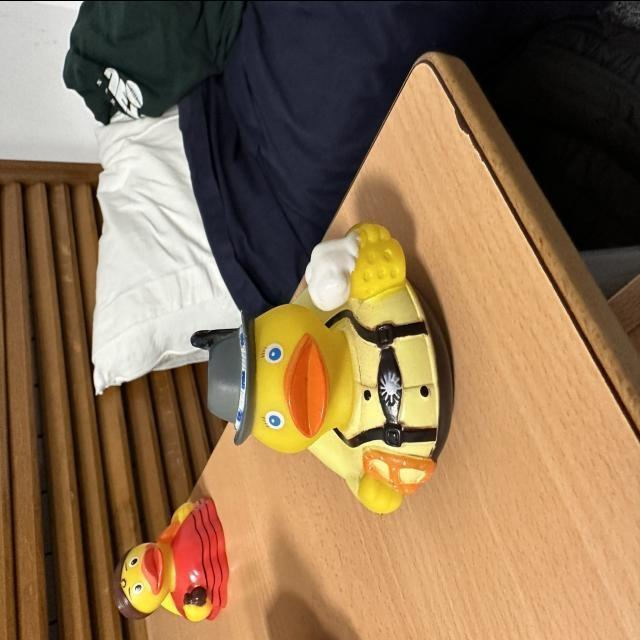rubber-duck: (191, 222, 450, 512), (113, 496, 227, 620)
